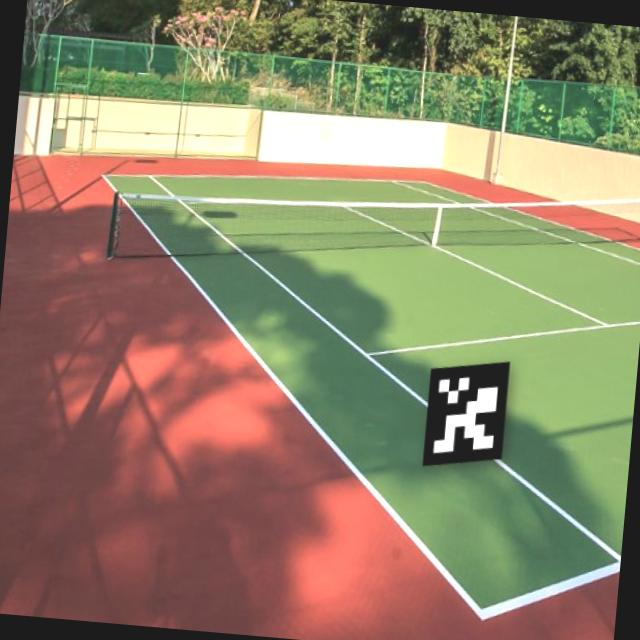marker: (410, 350, 526, 478)
